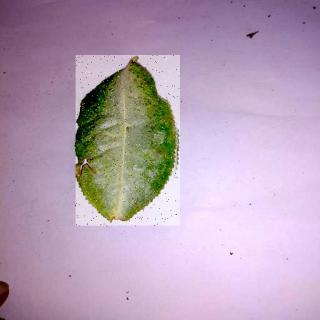Anthracnose: (77, 57, 181, 228)
